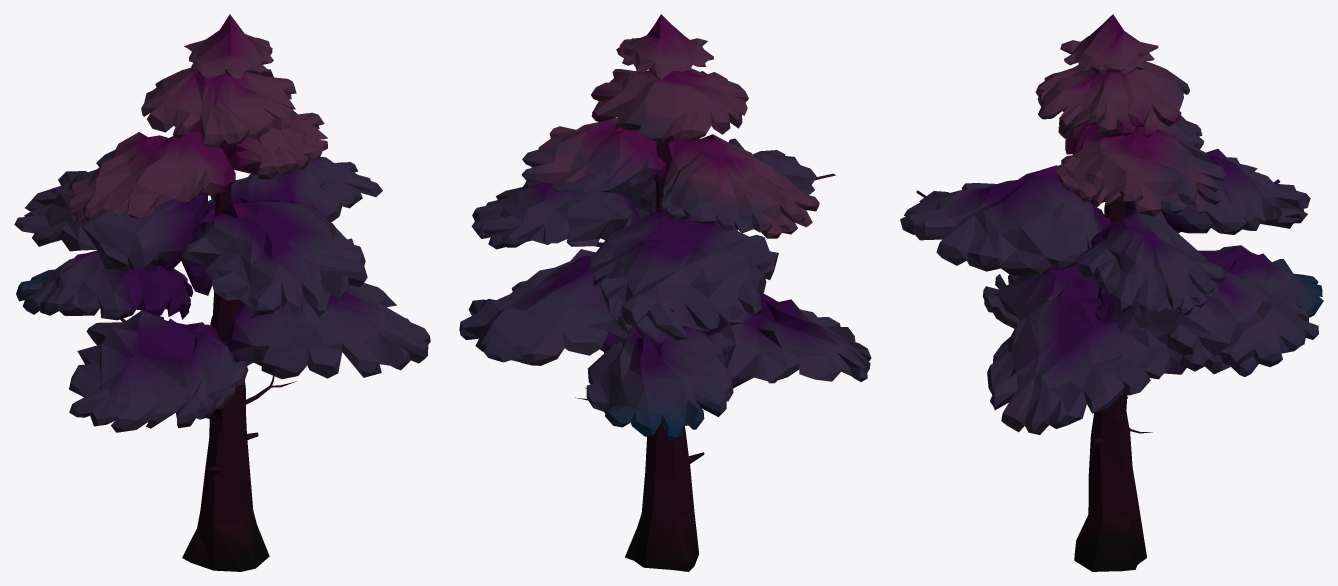
The model's file is Tree_Retry9.fbx.
3 views of the same model, side by side, from view 1: azimuth 30°, elevation 25°; view 2: azimuth 150°, elevation 25°; view 3: azimuth 270°, elevation 25° (orthographic).
Visible parts, largest first — view 1: Tree_Base.012; view 2: Tree_Base.012; view 3: Tree_Base.012.
Boxes of the visible parts, x1,y1,x2,y2 form: Tree_Base.012: (14,14,430,571); Tree_Base.012: (459,14,871,571); Tree_Base.012: (900,14,1323,571).
Size of the model in its own units: 220 by 330 by 233.
